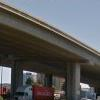Bridge: (15, 5, 99, 73)
